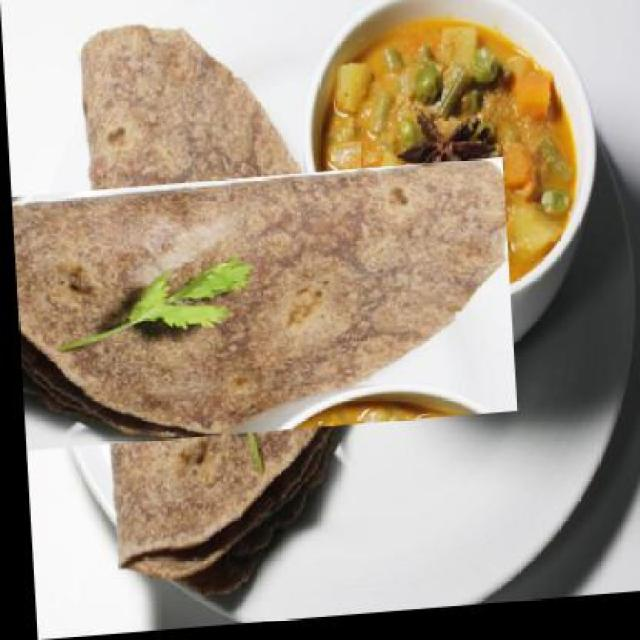chapati: (5, 91, 438, 532)
